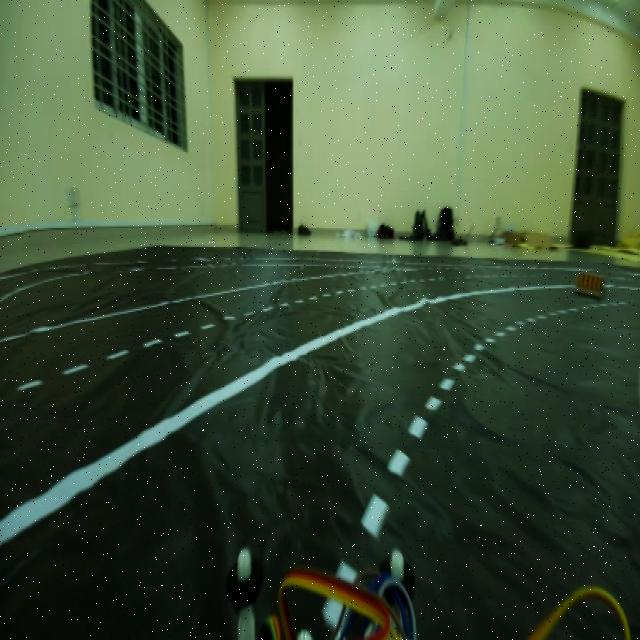roadblock: (570, 258, 604, 301)
